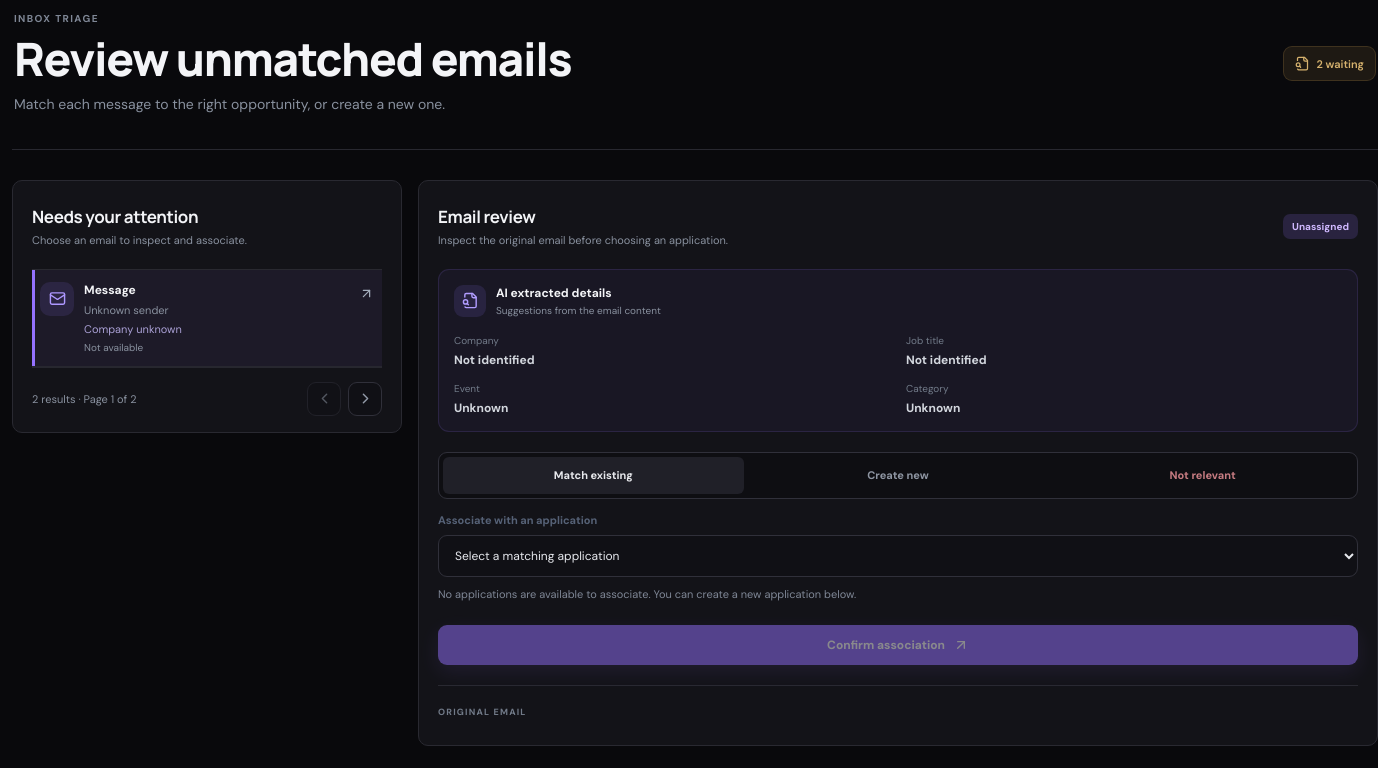
Test: review queue › keeps a failed later-page request visible instead of resetting to page one
What coordinates should you click on to do the following:
click the button named "Next page"
I would click on:
 (365, 399)
Its box is left=348, top=382, right=382, bottom=416.
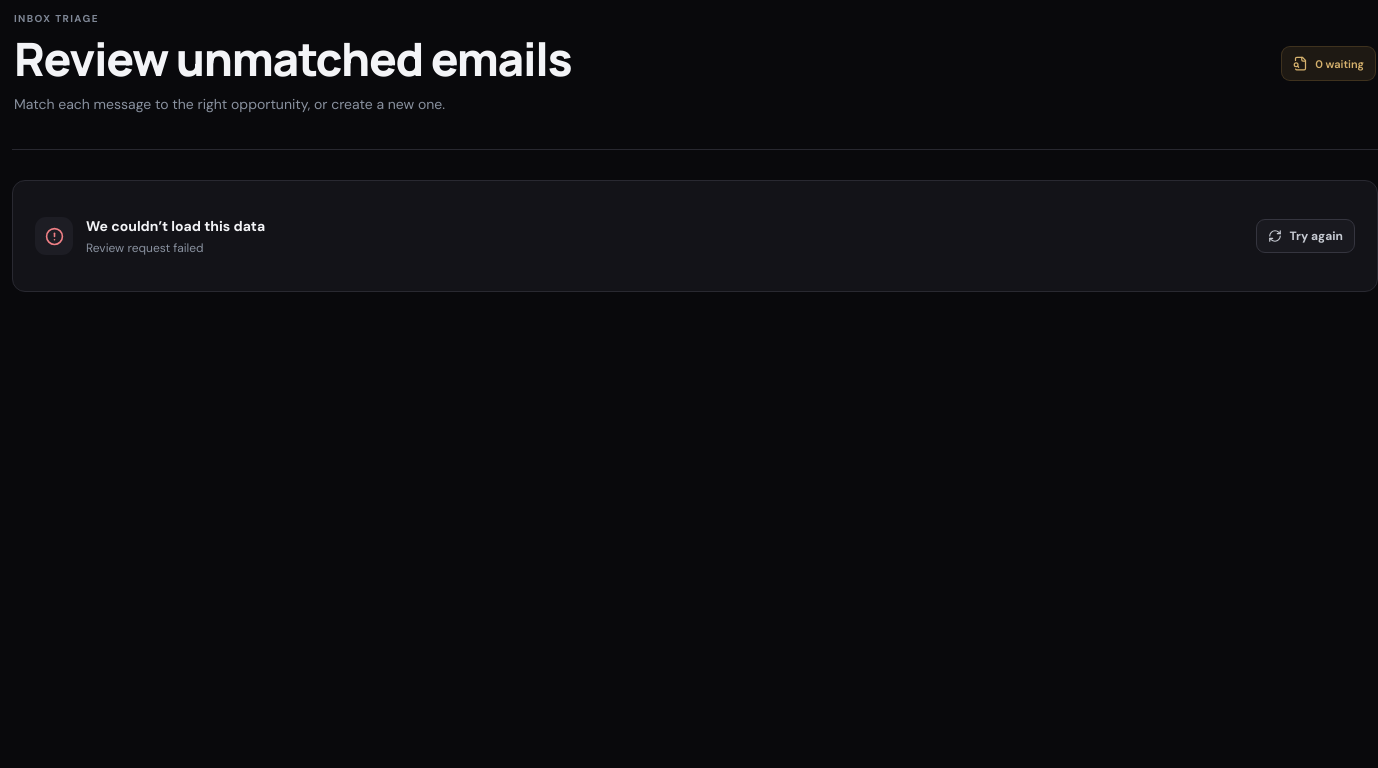
Result: the text "Review request failed" is shown at left=86, top=240, right=204, bottom=256
Result: the button "Try again" is shown at left=1256, top=219, right=1355, bottom=253
